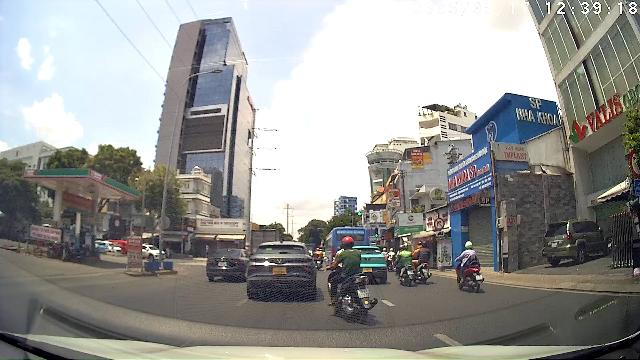123b-cam-re-phai: (434, 217, 445, 229)
